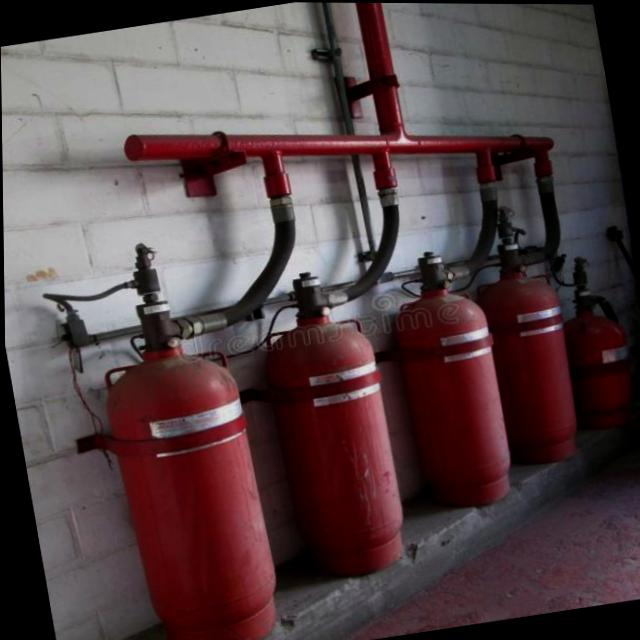FireExtinguisher: (45, 220, 298, 640), (230, 242, 426, 599), (352, 224, 528, 529), (443, 197, 603, 474), (518, 241, 640, 445)
